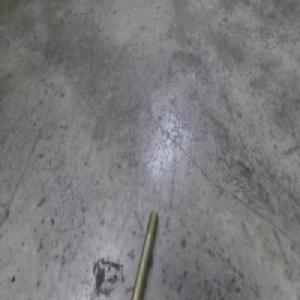Bolt: (128, 203, 158, 300)
